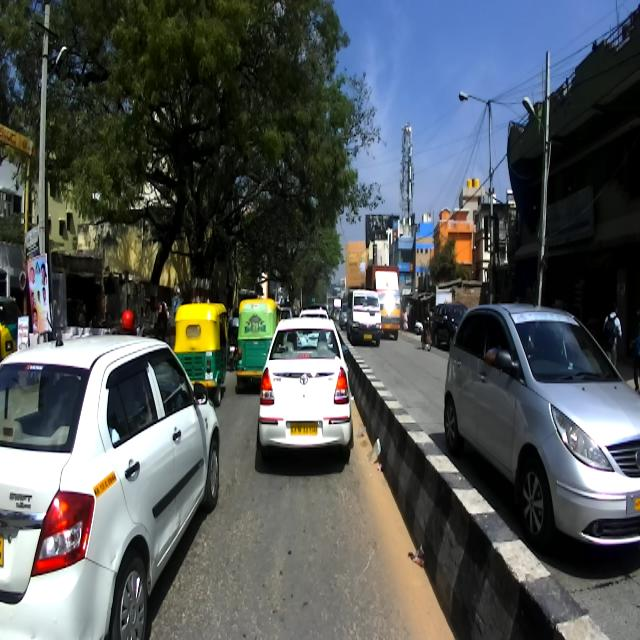car ahead at: (1, 335, 224, 640), (444, 299, 640, 574), (256, 313, 353, 466)
